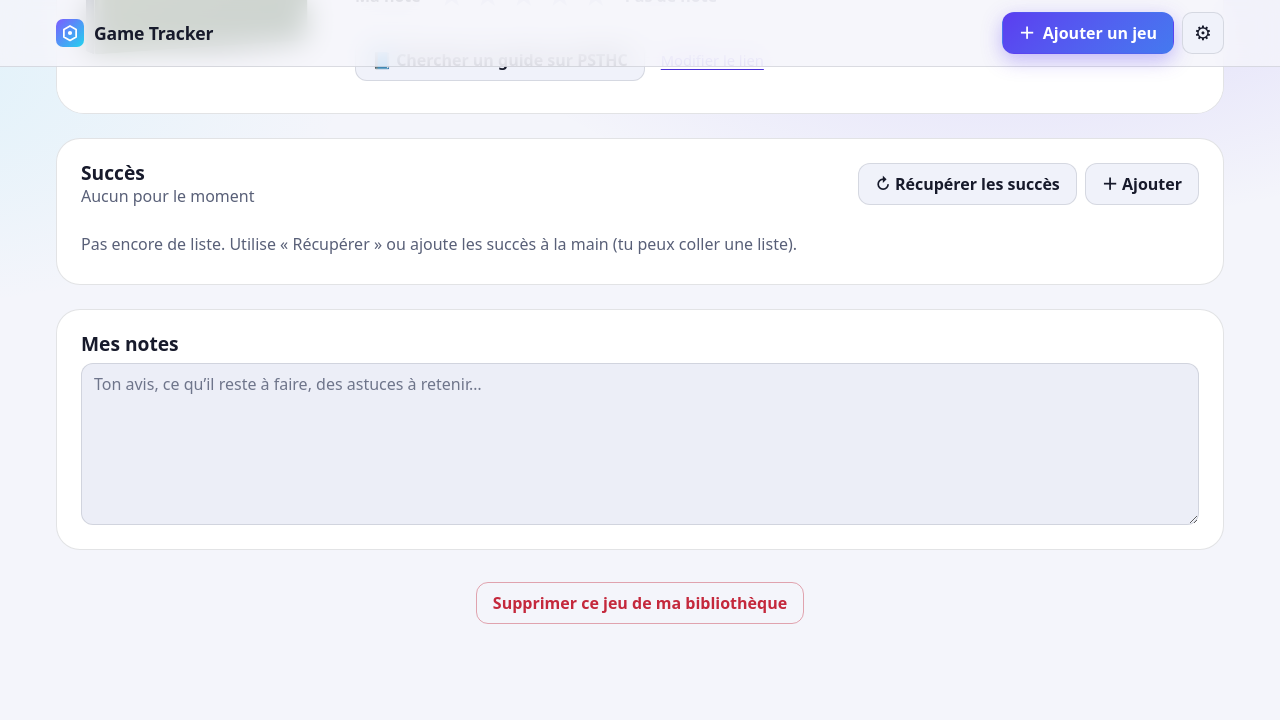
Scenario: game page › deletes a game after a confirmation and returns to the library
(page scrolled)
Click the button "Supprimer ce jeu de ma bibliothèque" at (640, 603), box [476, 582, 804, 624]
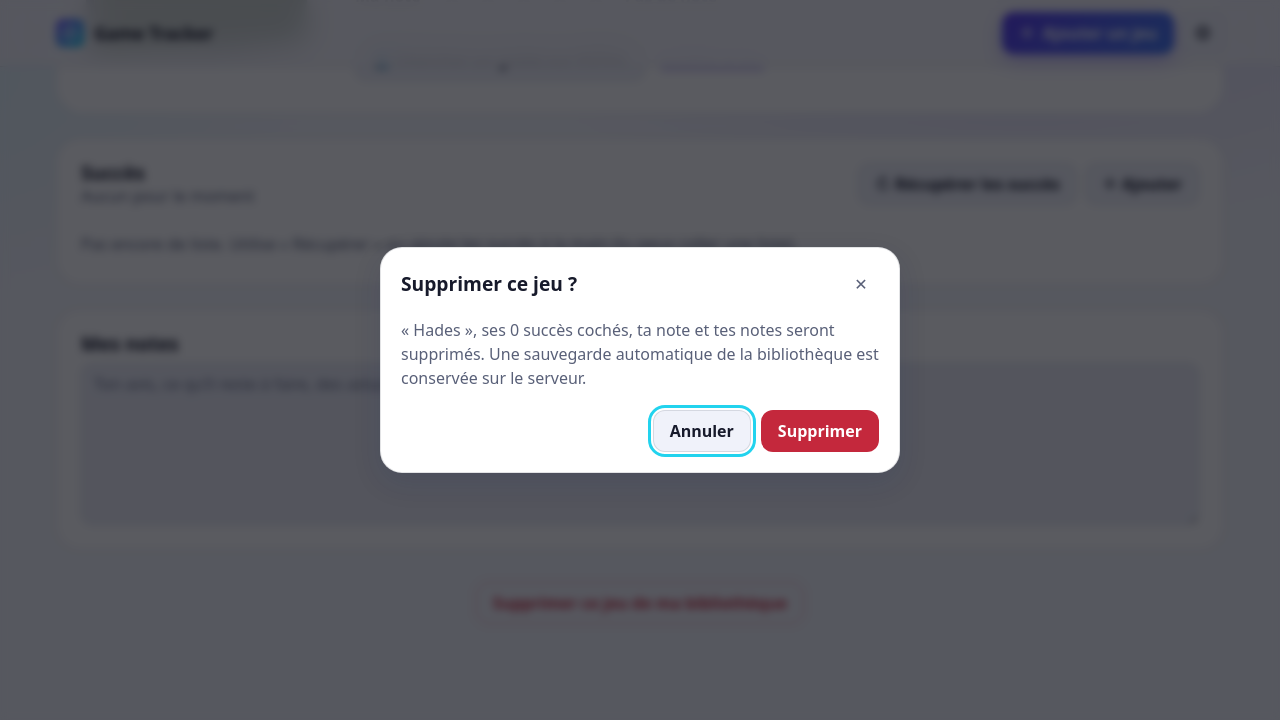
Click the button "Supprimer" at (820, 431), box [761, 410, 879, 452]
(page scrolled)
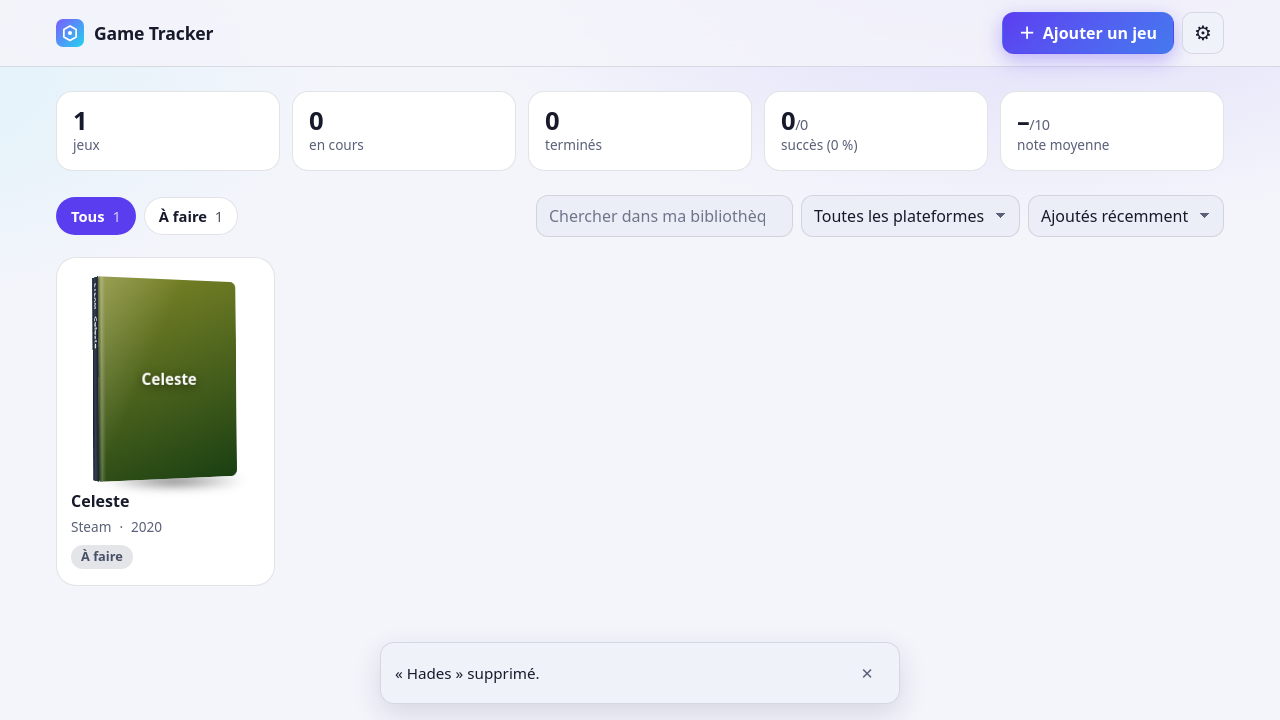
Now the link "Celeste Steam Celeste Celeste Steam 2020 À faire" is shown, box [56, 257, 275, 586]
